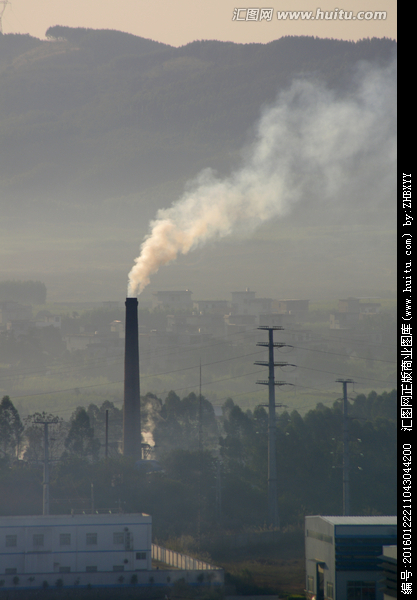dust: (120, 148, 264, 319)
